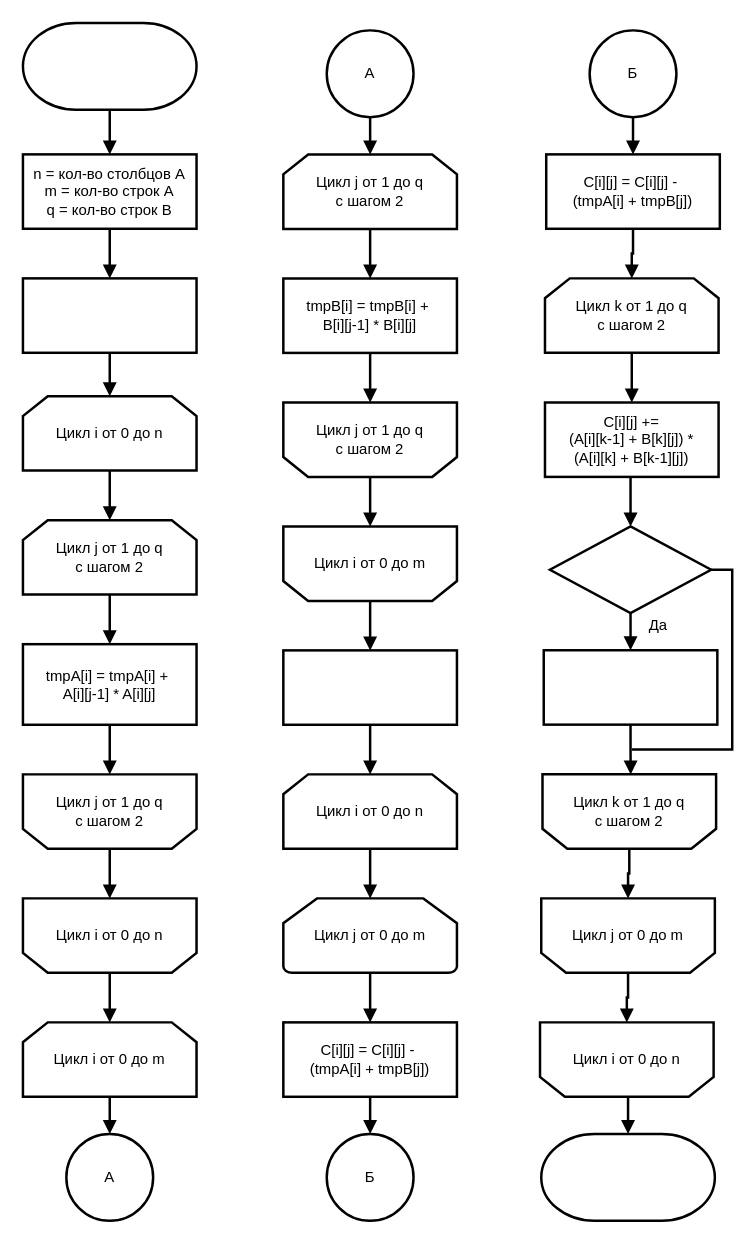
The diagram is 755 pixels wide and 1242 high, and some of its shapes have lost their labels. The box of each missing label's shape, as (x1, y1, x2, y2) in pixels:
C[i][j] += (A[i][q-1] * B[q-1][j]): (542, 648, 718, 725)
flag = остаток деления q на 2: (281, 649, 458, 725)
flag == 1 ?: (548, 525, 712, 614)
Конец: (539, 1132, 715, 1221)
Начало: (21, 21, 197, 110)
Создание массивов tmpA длиной n и tmpB длиной m: (21, 277, 197, 353)
